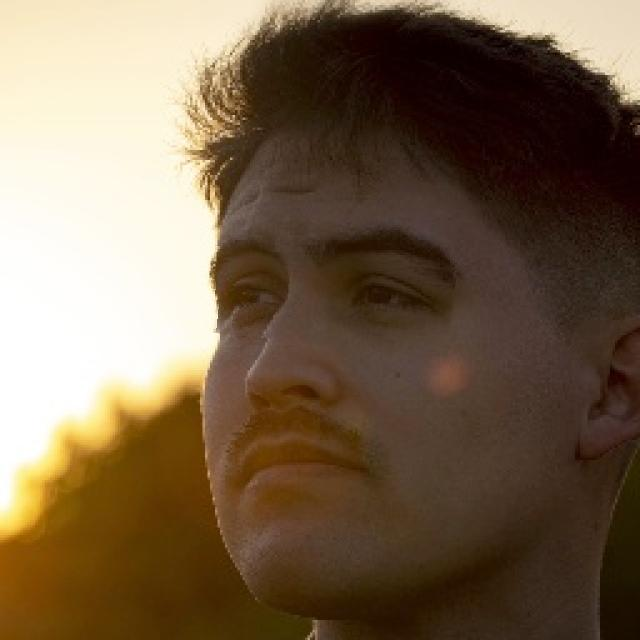no-glasses: (188, 250, 455, 351)
